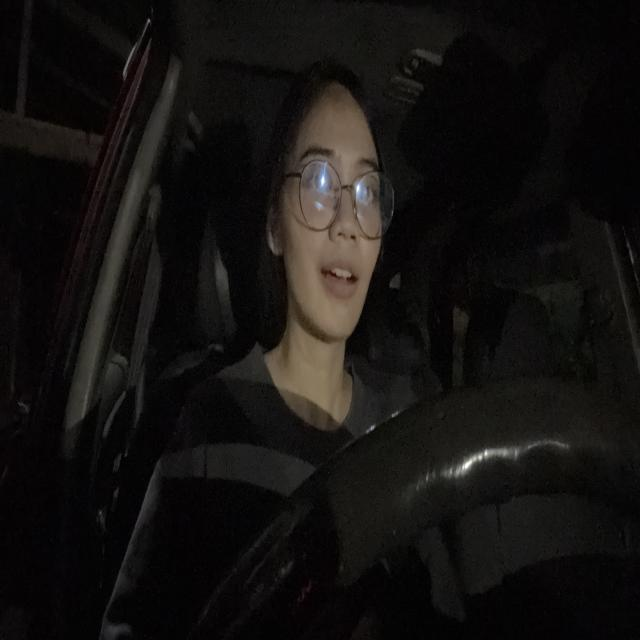open: (298, 142, 336, 206), (352, 148, 380, 217)
